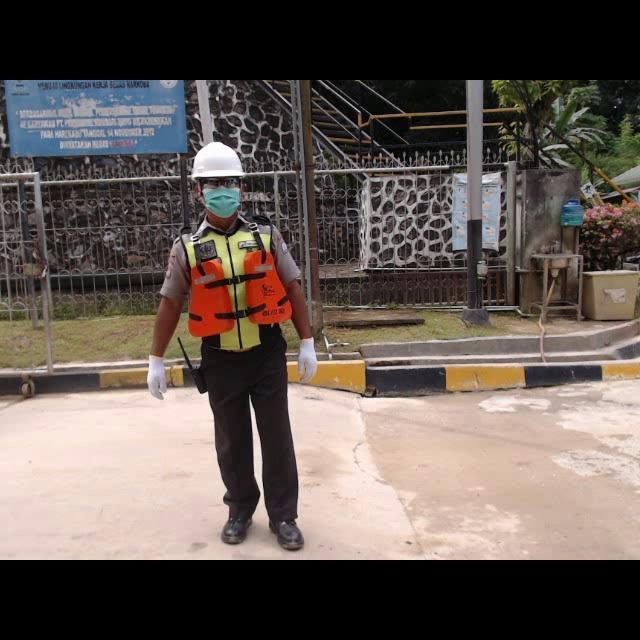Gloves: (147, 357, 167, 402), (299, 336, 317, 383)
Hardhat: (193, 143, 246, 178)
Mask: (198, 183, 243, 218)
Person: (144, 142, 320, 555)
Safety Vest: (180, 221, 291, 353)
